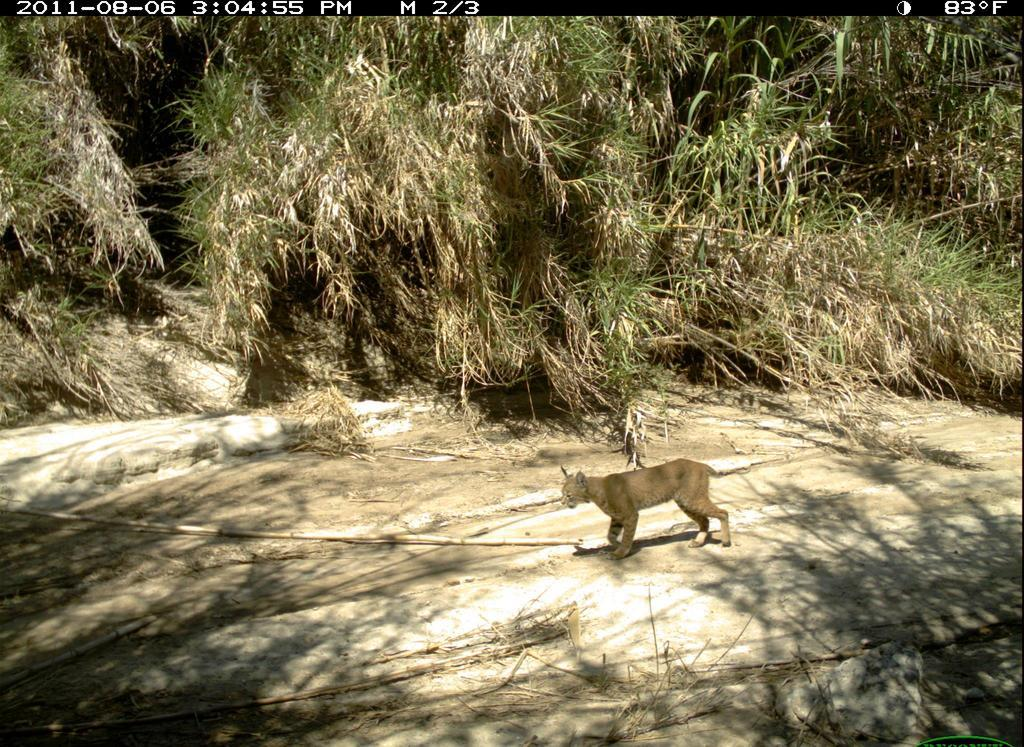bobcat: (556, 459, 735, 570)
